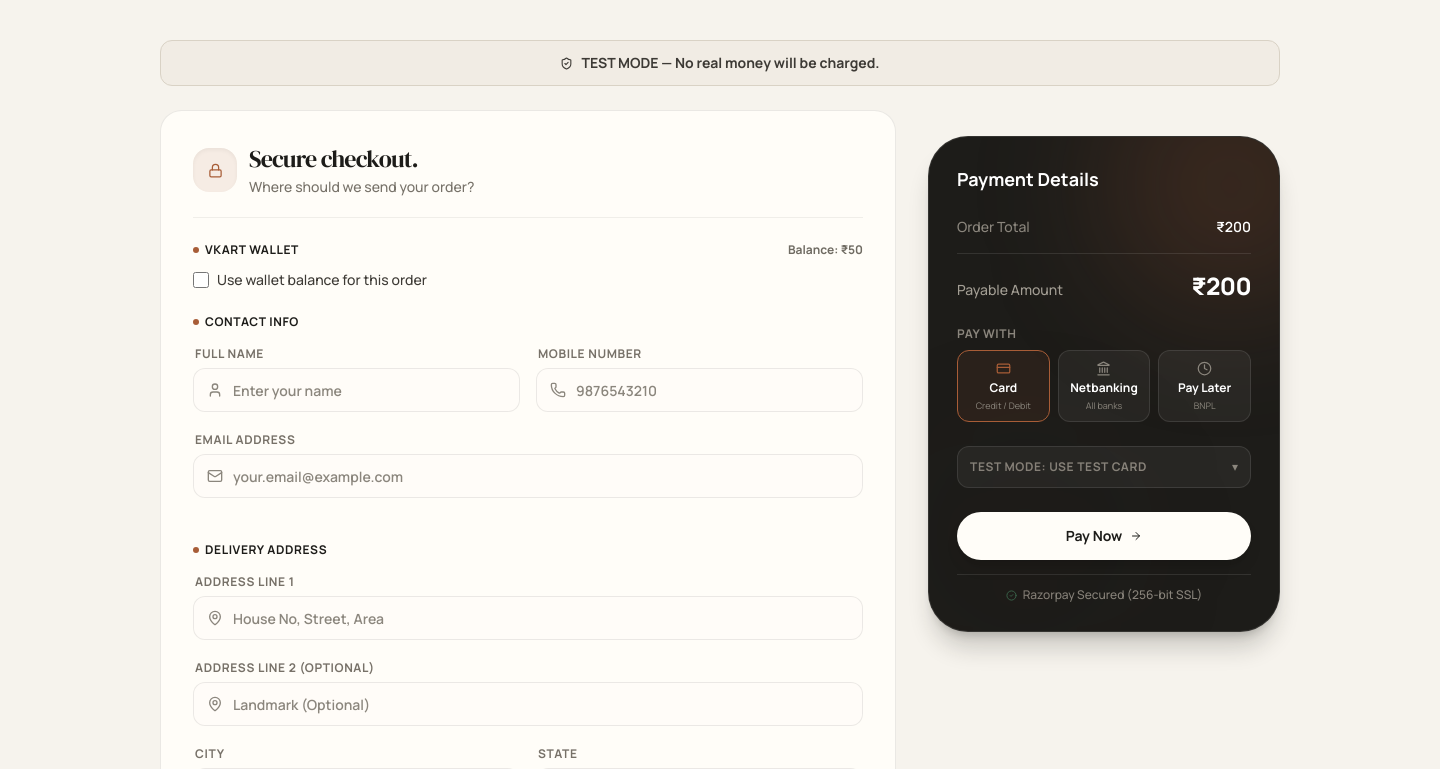
Test case: CheckoutForm Component › shows the wallet top-up control only once the wallet checkbox is checked and balance is insufficient
Expected: the text "Balance: ₹50" is shown, x1=788 y1=242 x2=863 y2=258
Expected: the field with placeholder "add money" is not shown
Click the checkbox labelled "Use wallet balance for this order" at coordinates (201, 280), box x1=193 y1=272 x2=209 y2=288
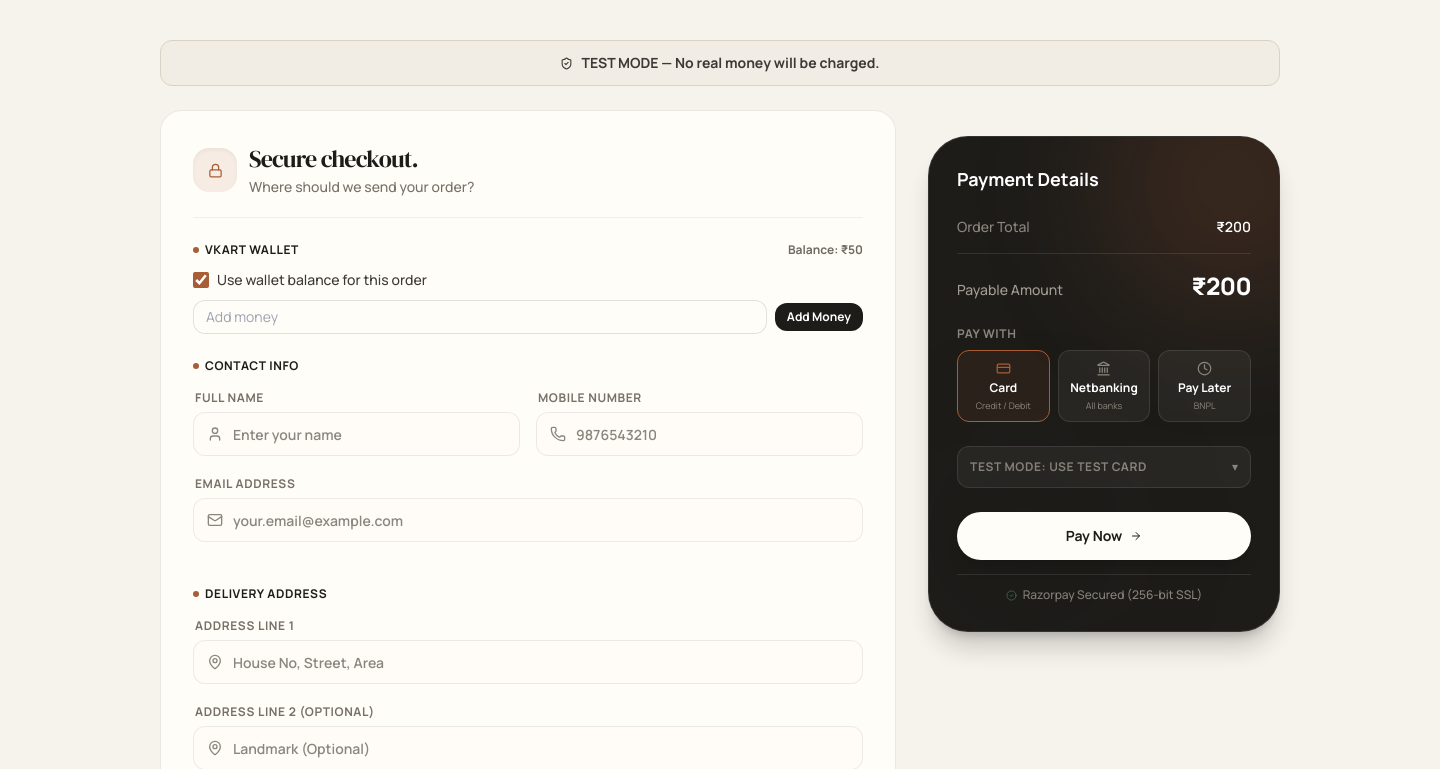
Expected: the number field with placeholder "Add money" is shown, x1=193 y1=300 x2=767 y2=334
